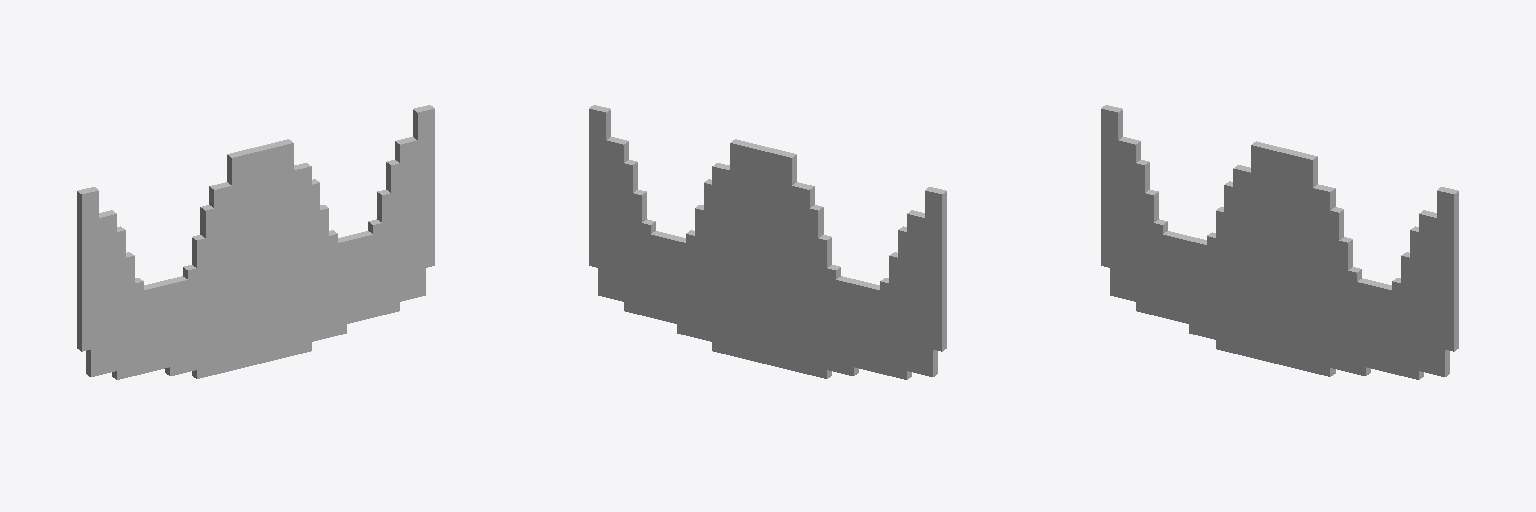
Rendered from BadBlade.obj.
3 views of the same model, side by side, from view 1: azimuth 30°, elevation 25°; view 2: azimuth 150°, elevation 25°; view 3: azimuth 330°, elevation 25° (orthographic).
Visible parts, largest first — view 1: object 1; view 2: object 1; view 3: object 1.
Boxes of the visible parts, <box> form: object 1: <box>77,105,434,379</box>; object 1: <box>589,105,946,379</box>; object 1: <box>1101,105,1458,379</box>.
Bounding box in the file's own units: 4 × 2.3 × 0.1.